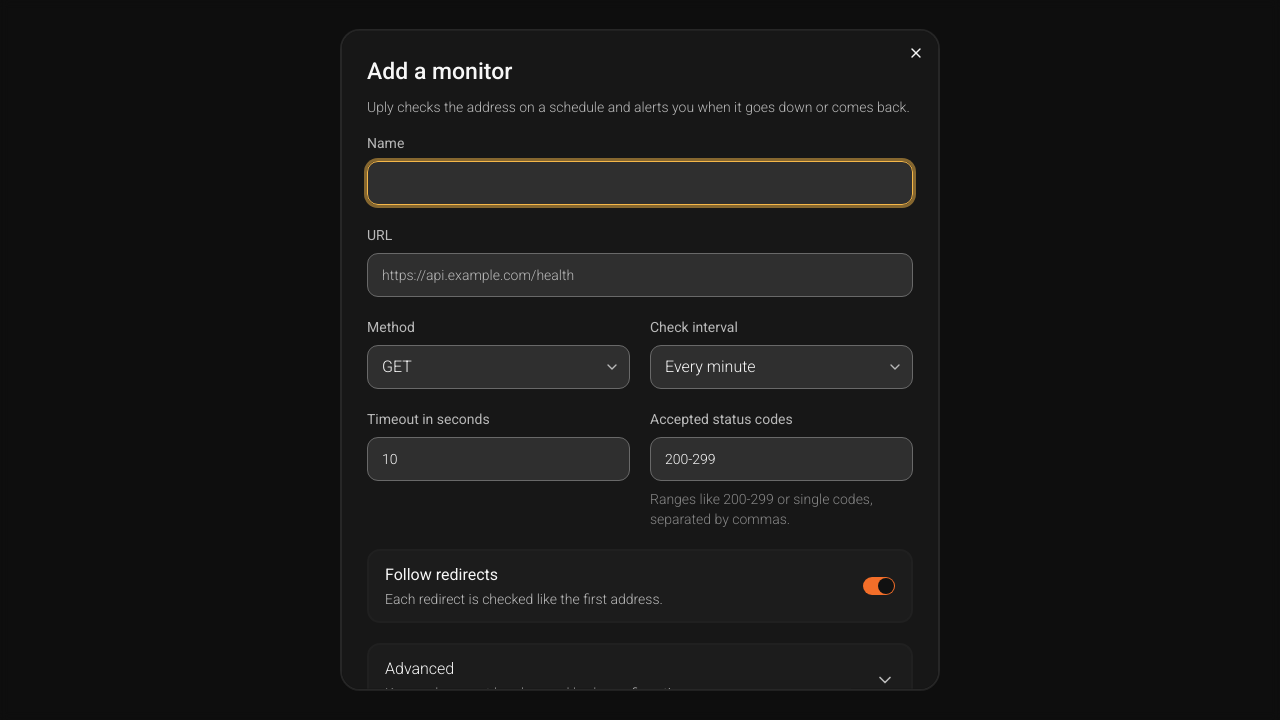
Test: MonitorFormDialog › says when the organization has reached its monitor limit
Step 1. Type "Public API" into the field labelled "Name" → (640, 183), box [367,161,913,205]
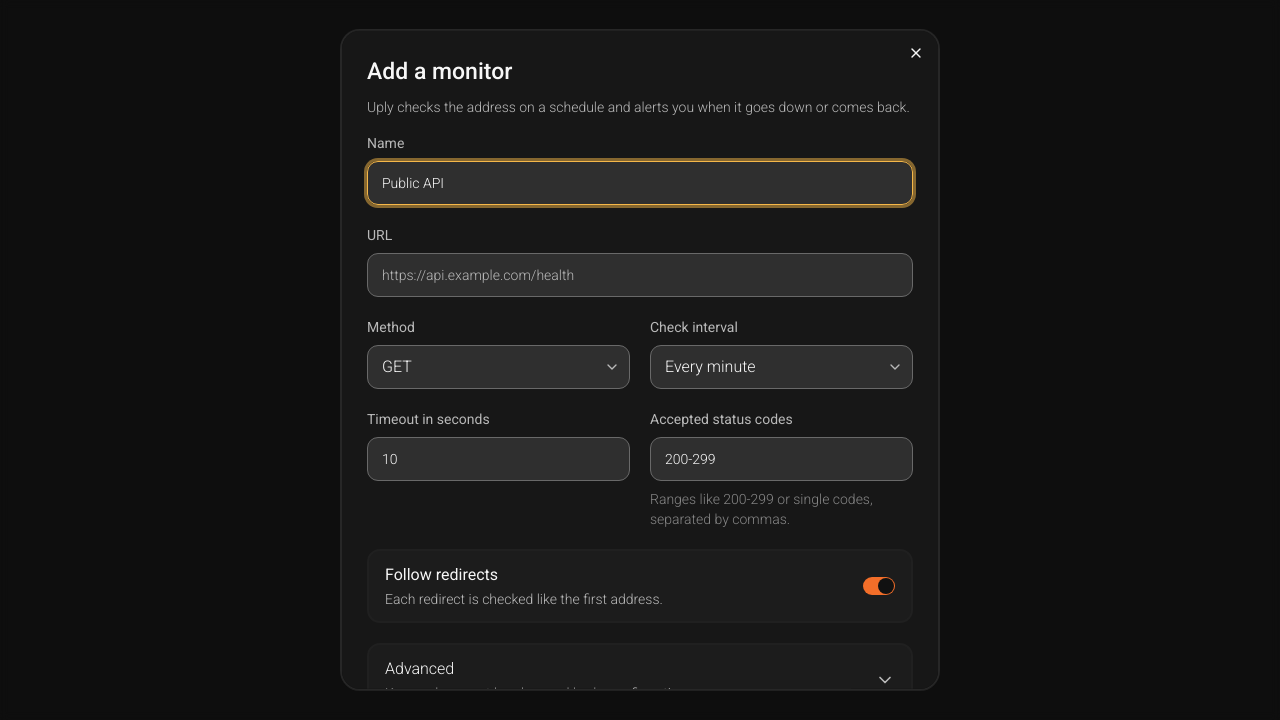
Step 2. Type "https://api.example.test/health" into the field labelled "URL" → (640, 275), box [367,253,913,297]
(page scrolled)
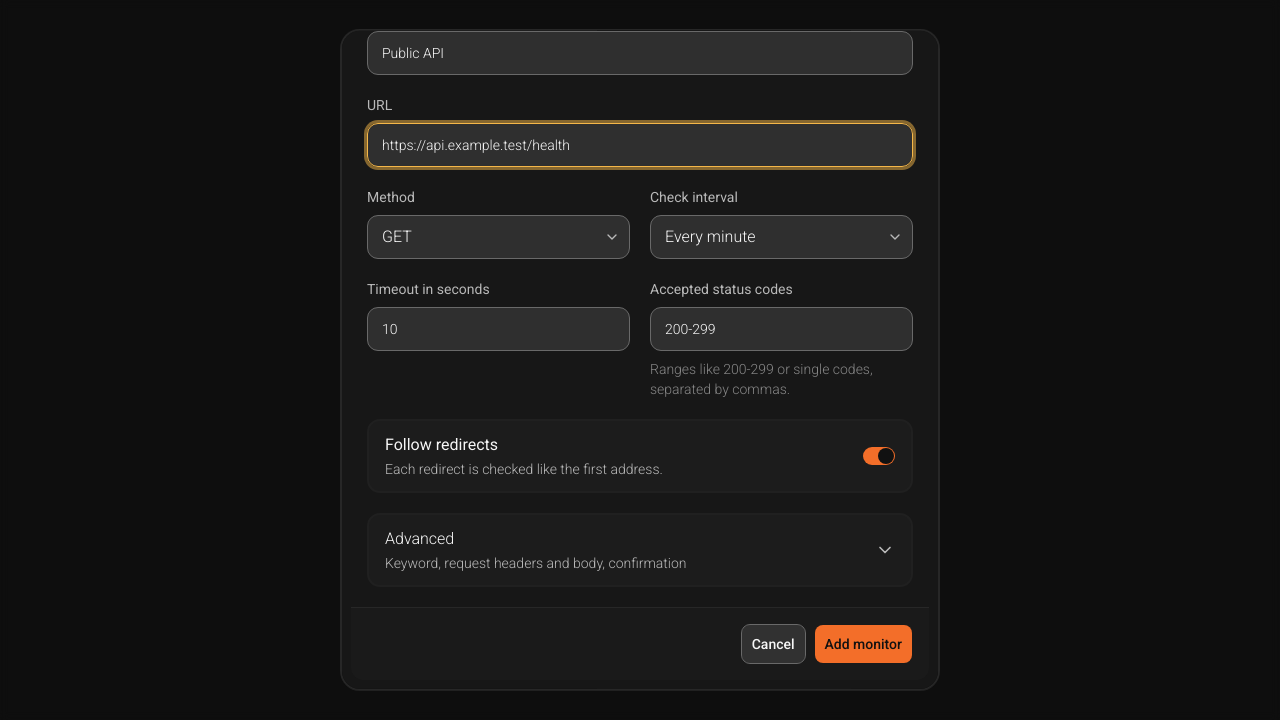
Step 3. Click the button "Add monitor" → (863, 644), box [814,624,913,664]
(page scrolled)
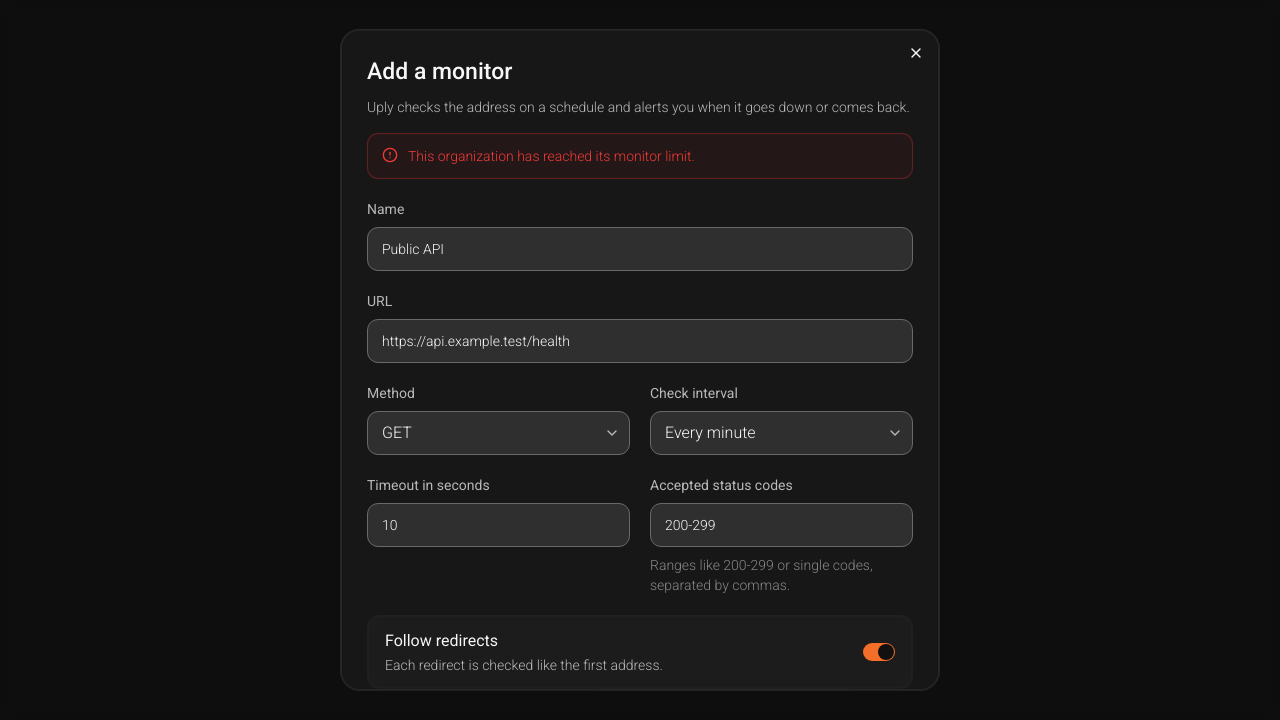
Expected: the message reads "This organization has reached its monitor limit.", [408,148,695,164]
